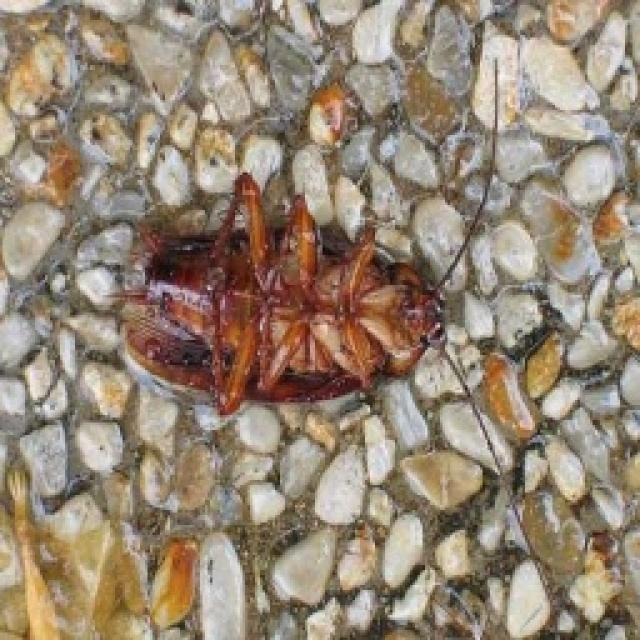cockroach: (116, 169, 448, 417)
